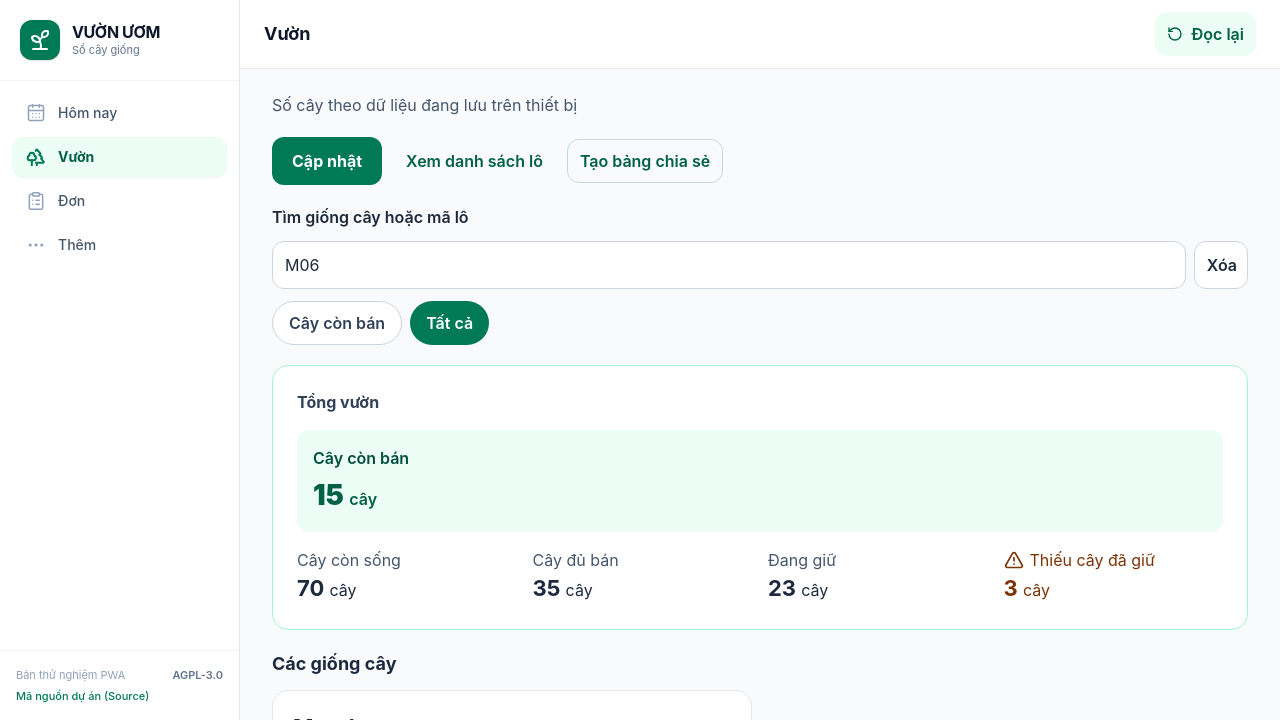
V2-A3 quick update composition (real Dexie) › chooser selection, change batch, actions and cancel do not write business data
Check: the element "Tổng vườn" is shown, box [272, 365, 1248, 630]
Click the button "Cập nhật": (327, 161) [272, 137, 382, 185]
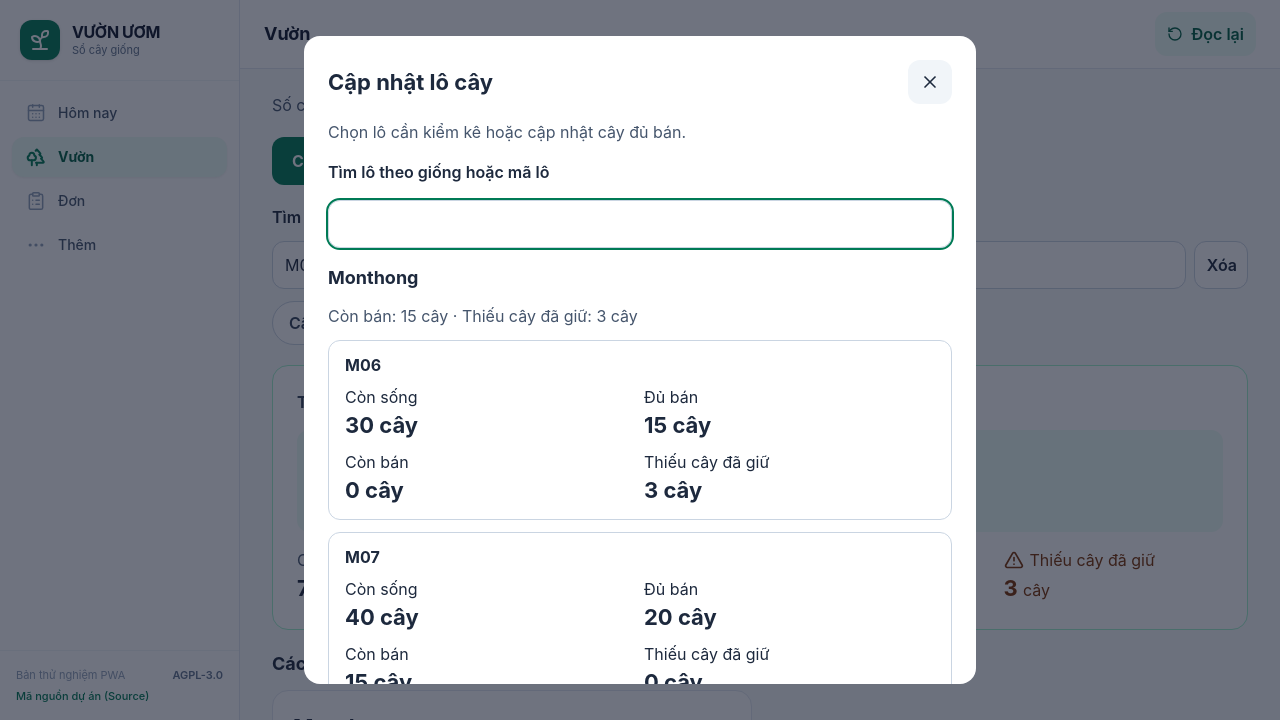
Click the button with aria-label "Chọn lô M06": (363, 365) [328, 340, 952, 520]
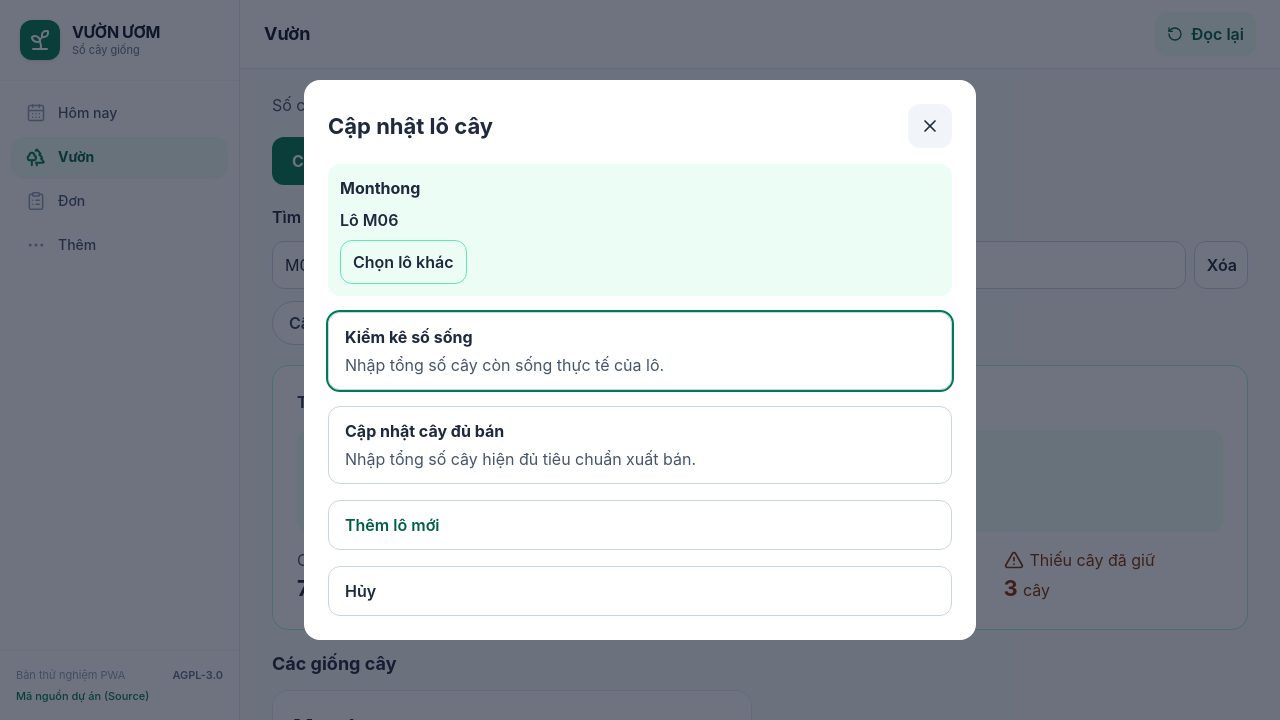
Click the button "Chọn lô khác": (403, 262) [340, 240, 466, 284]
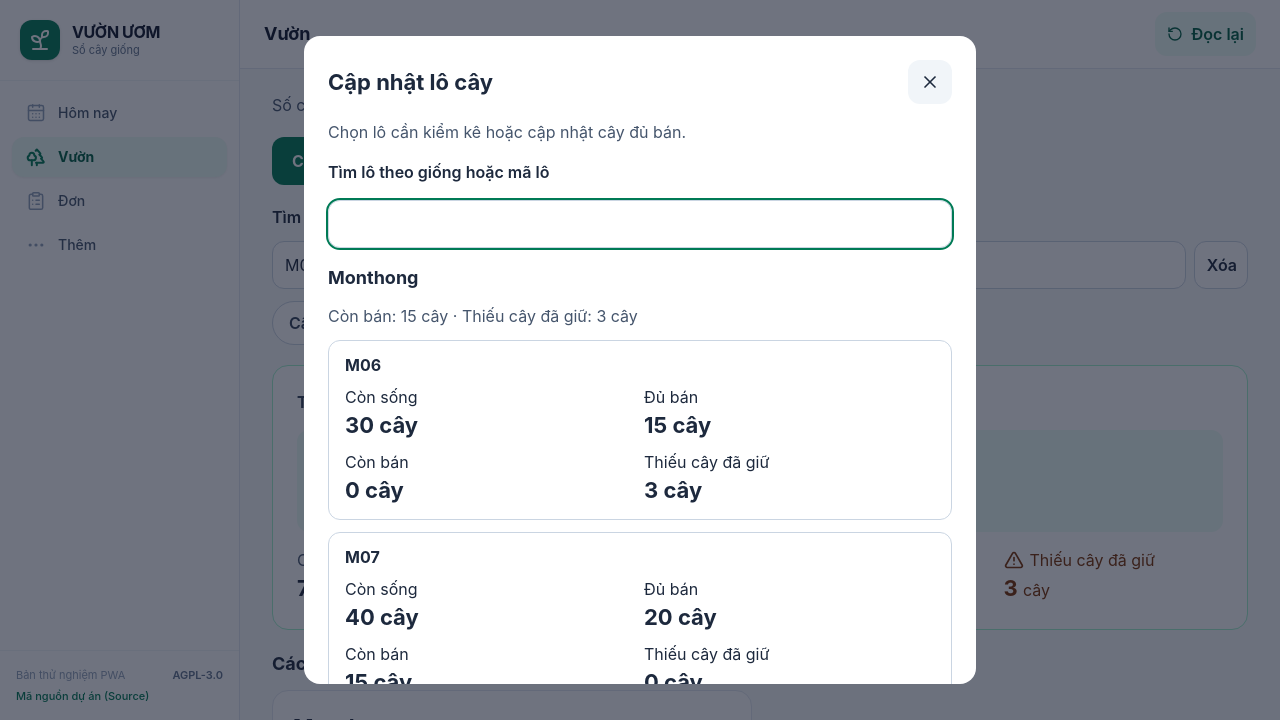
Click the button with aria-label "Chọn lô M07": (362, 557) [328, 532, 952, 712]
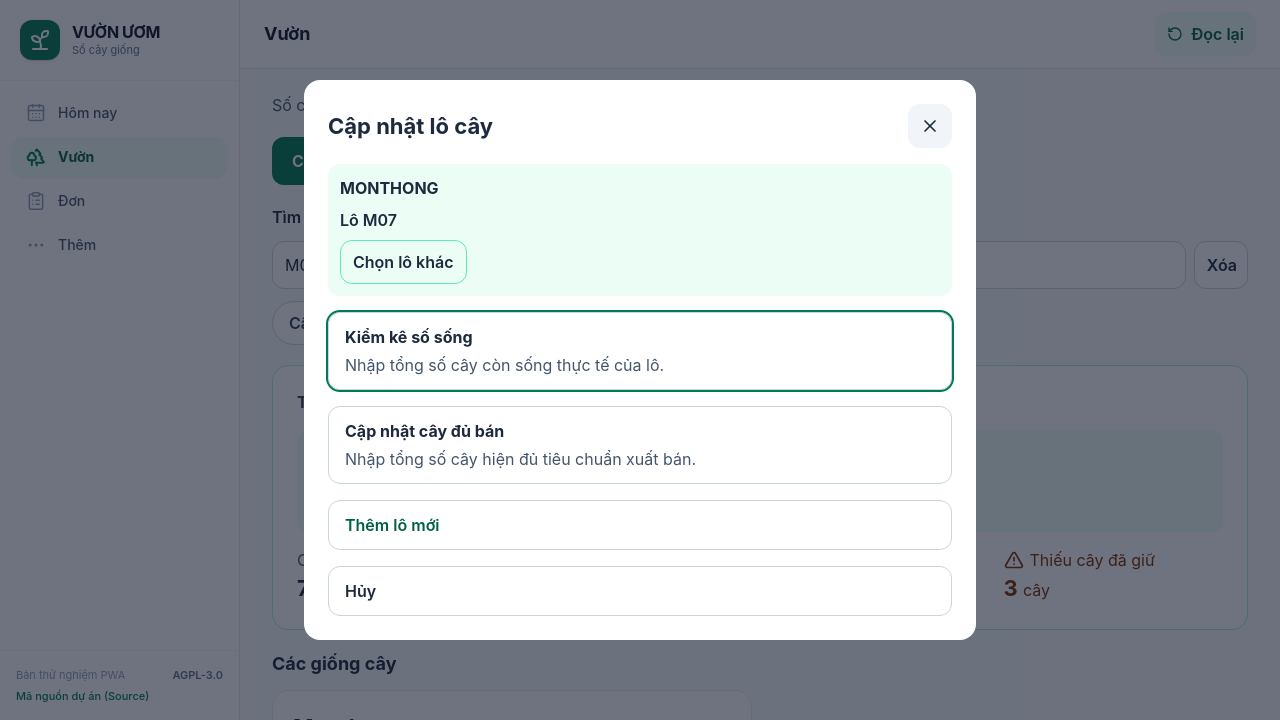
Check: the text "Lô M06" is not shown
Click the button "Kiểm kê số sống Nhập tổng số cây còn sống thực tế của lô.": (409, 337) [328, 312, 952, 390]
(page scrolled)
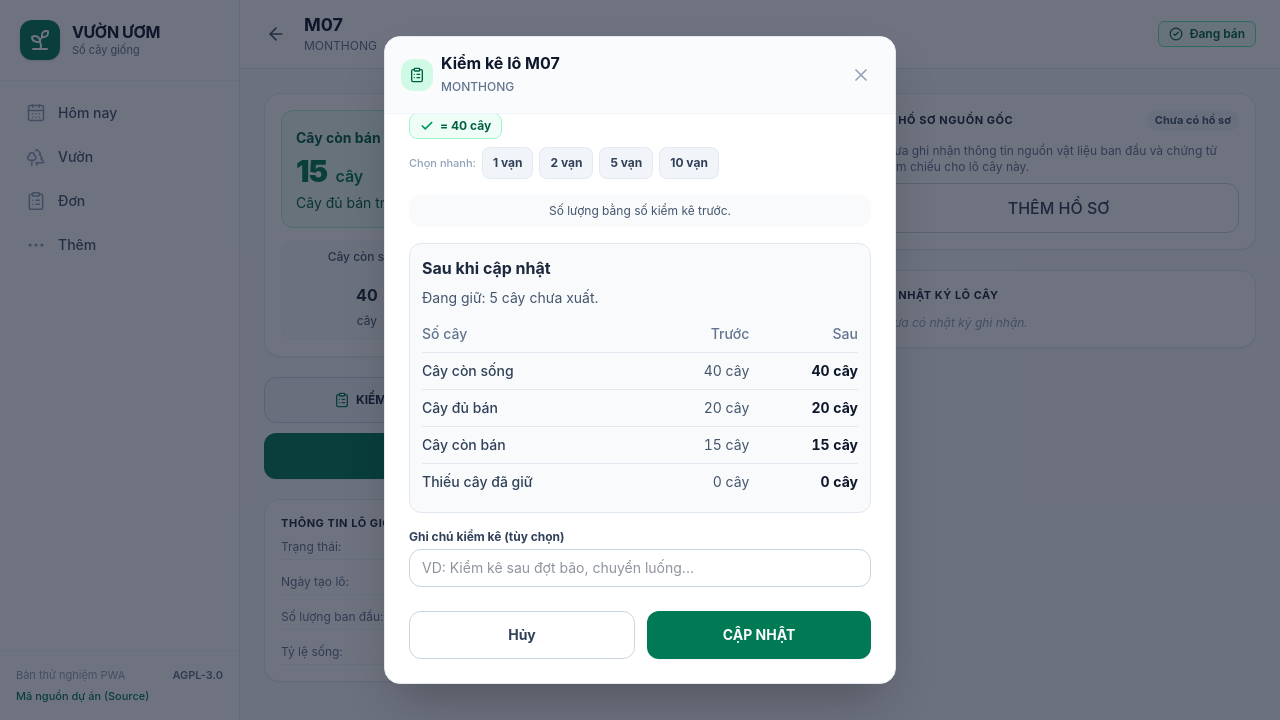
Click the button "Hủy": (522, 635) [409, 611, 635, 659]
(page scrolled)
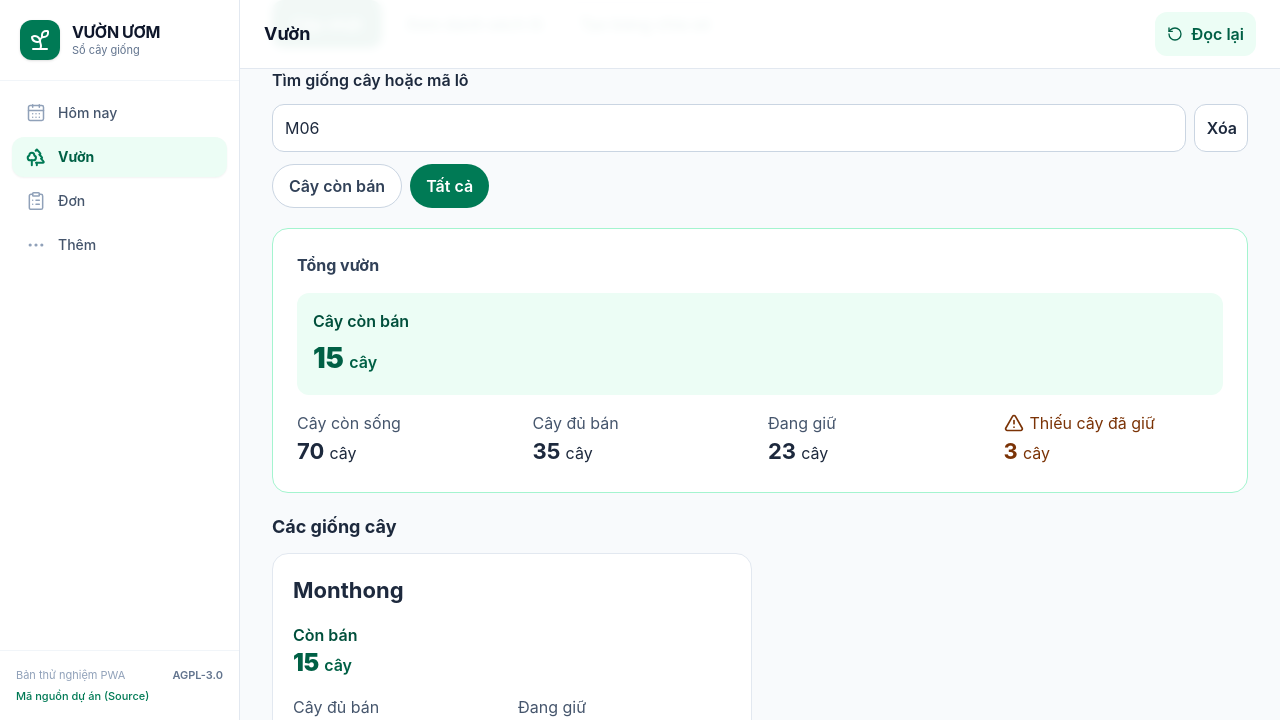
Check: the element "Tổng vườn" is shown, box [272, 228, 1248, 493]
